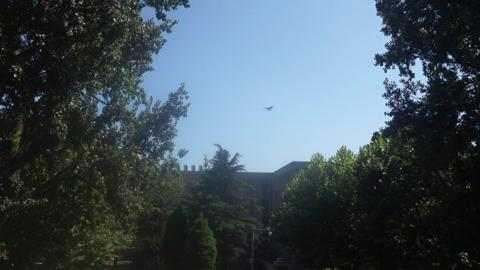UAV: (264, 106, 276, 112)
